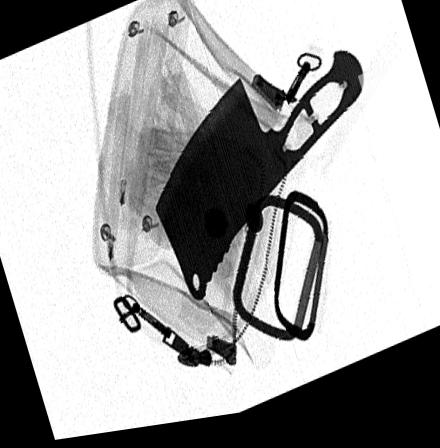Knife: (154, 59, 365, 306)
